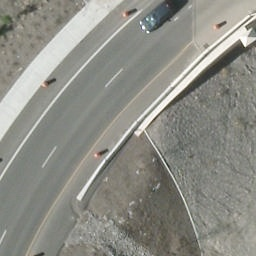car: (138, 0, 180, 37)
